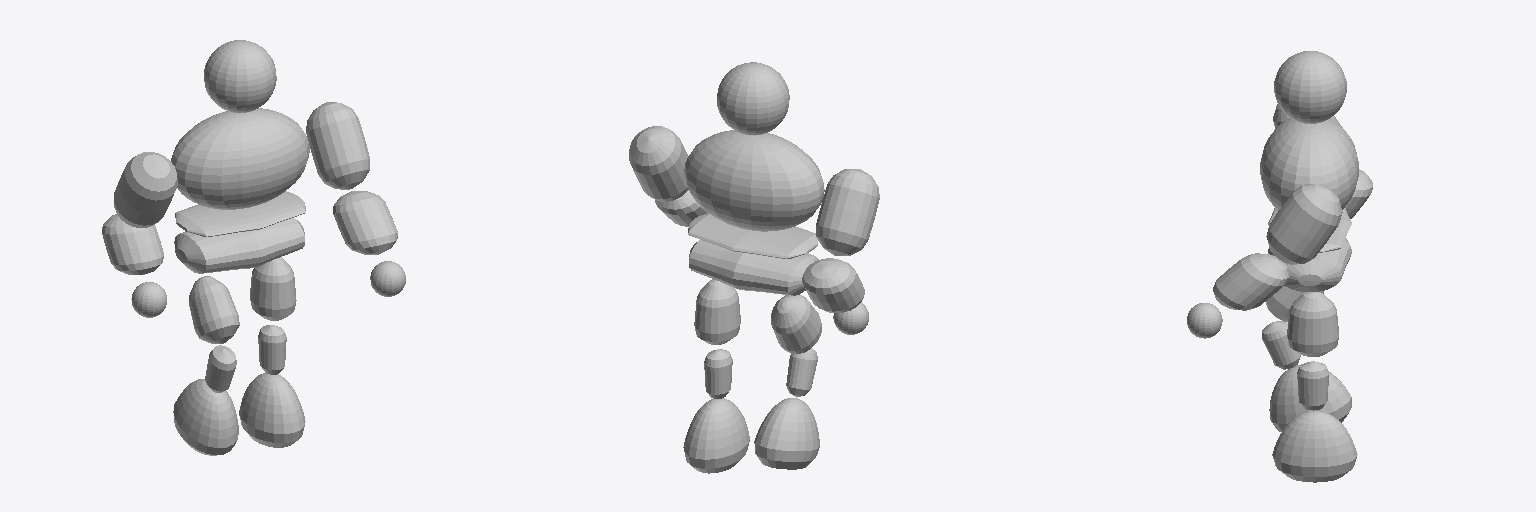
The model's file is PTwo4.obj.
3 views of the same model, side by side, from view 1: azimuth 30°, elevation 25°; view 2: azimuth 150°, elevation 25°; view 3: azimuth 270°, elevation 25° (orthographic).
Bounding box in the file's own units: 4.01 × 6.49 × 2.72.